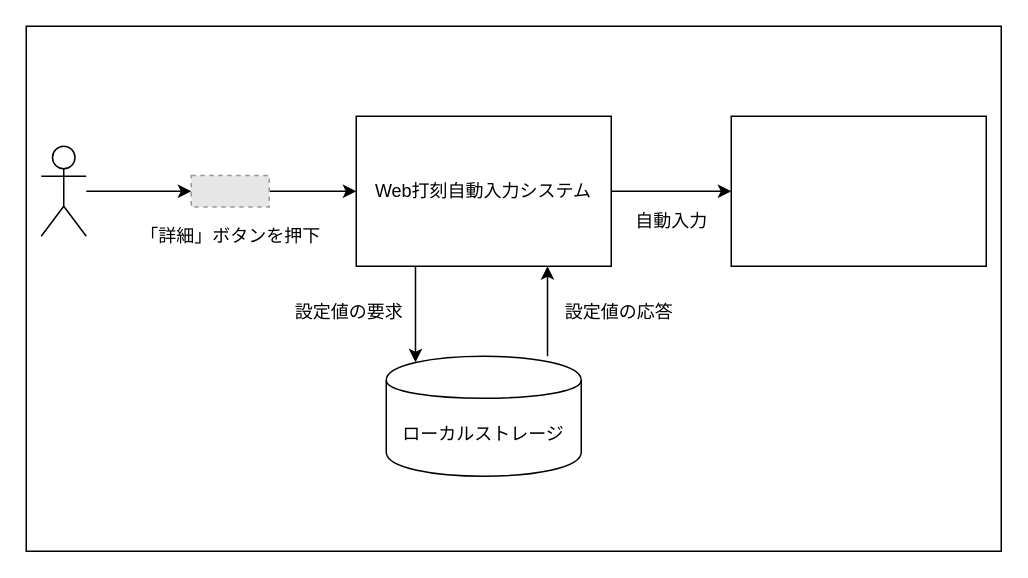
The diagram is 1028 pixels wide and 578 high, and some of its shapes have lost their labels. Grey dashed boxes stand in for pictures. The centre of each missing label's shape, as x and y in pixels:
COMPANY HR 勤務実績入力画面: point (858, 190)
ユーザ: point (63, 190)
